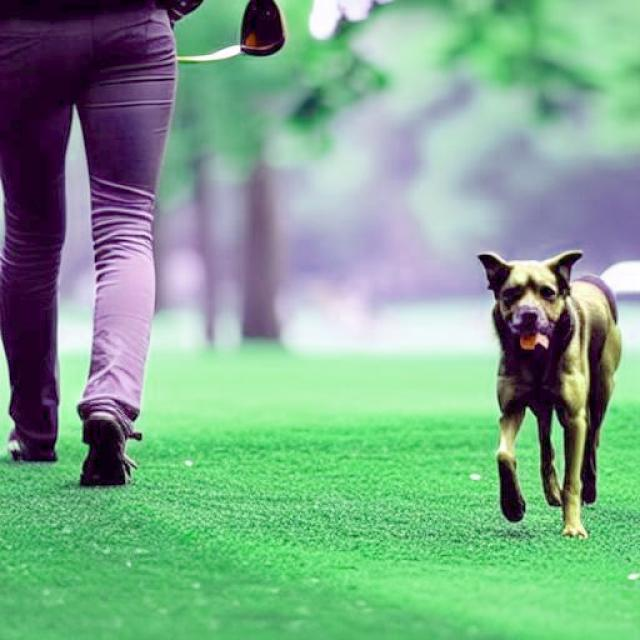Unleashed_Dog: (3, 5, 623, 539)
